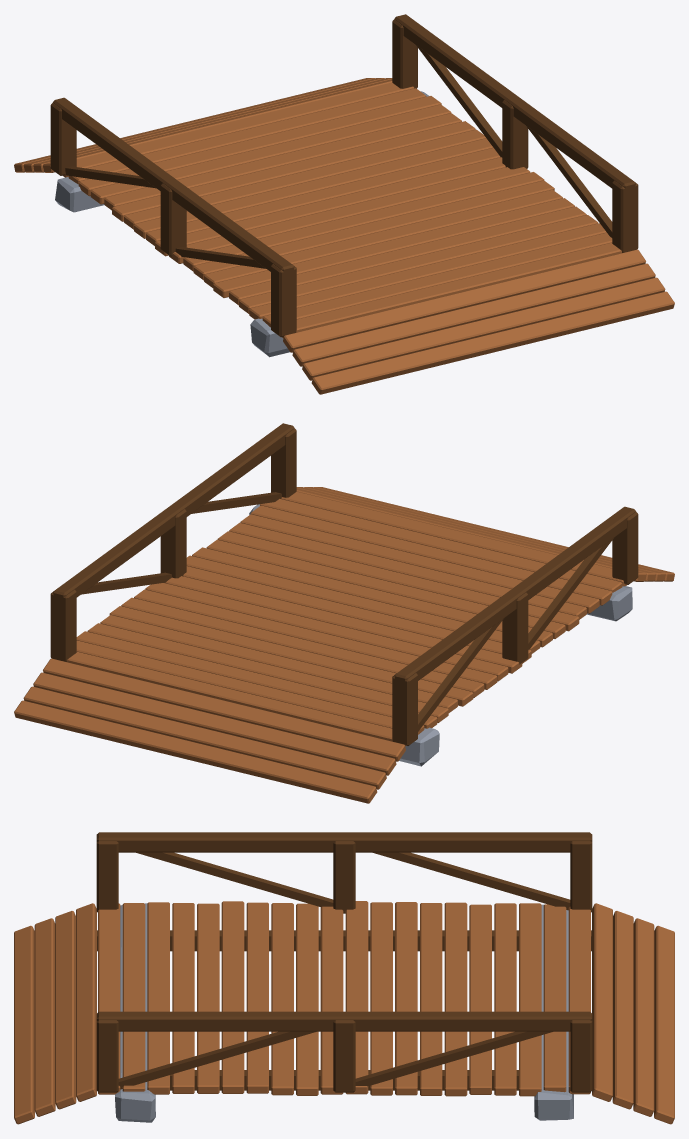
File: Bridge.fbx
3 renders of one model, top to bottom at view 1: azimuth 30°, elevation 25°; view 2: azimuth 150°, elevation 25°; view 3: azimuth 270°, elevation 25°, orthographic. The views are drawn at different scales.
Visible parts, largest first — view 1: Deck, Post, Stone; view 2: Deck, Post, Stone; view 3: Deck, Post, Stone.
Part boxes in pixels (x1=…): Deck: x1=14, y1=78, x2=674, y2=394; Post: x1=50, y1=14, x2=638, y2=336; Stone: x1=55, y1=91, x2=428, y2=357; Deck: x1=14, y1=487, x2=674, y2=803; Post: x1=50, y1=423, x2=638, y2=745; Stone: x1=249, y1=504, x2=632, y2=766; Deck: x1=14, y1=901, x2=674, y2=1124; Post: x1=96, y1=832, x2=592, y2=1092; Stone: x1=115, y1=903, x2=573, y2=1122.
Size of the model in its own units: 16.68 by 4.31 by 24.02.
